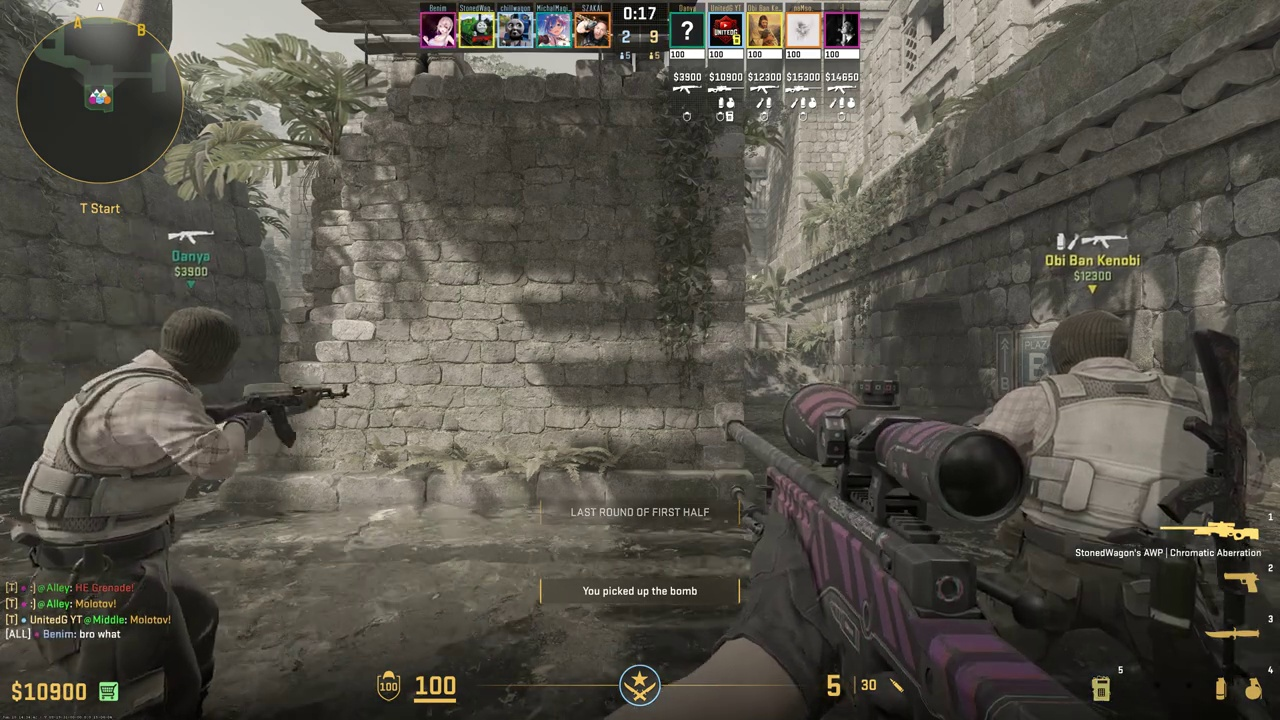Terrorist: (30, 306, 262, 719), (1003, 312, 1230, 716)
